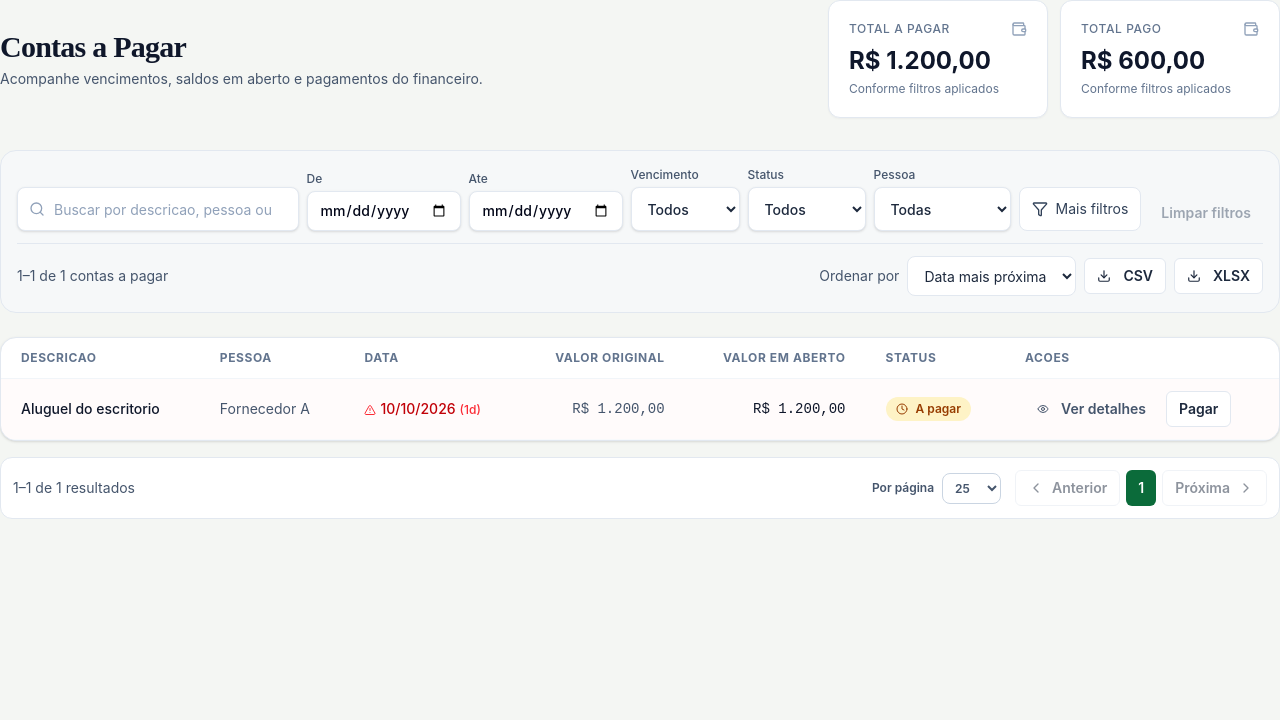
it: PayablesPage › abre e fecha o detalhe pelo identificador da transacao
Click the button "Ver detalhes". click: (1092, 409)
box: x1=1025 y1=391 x2=1158 y2=427
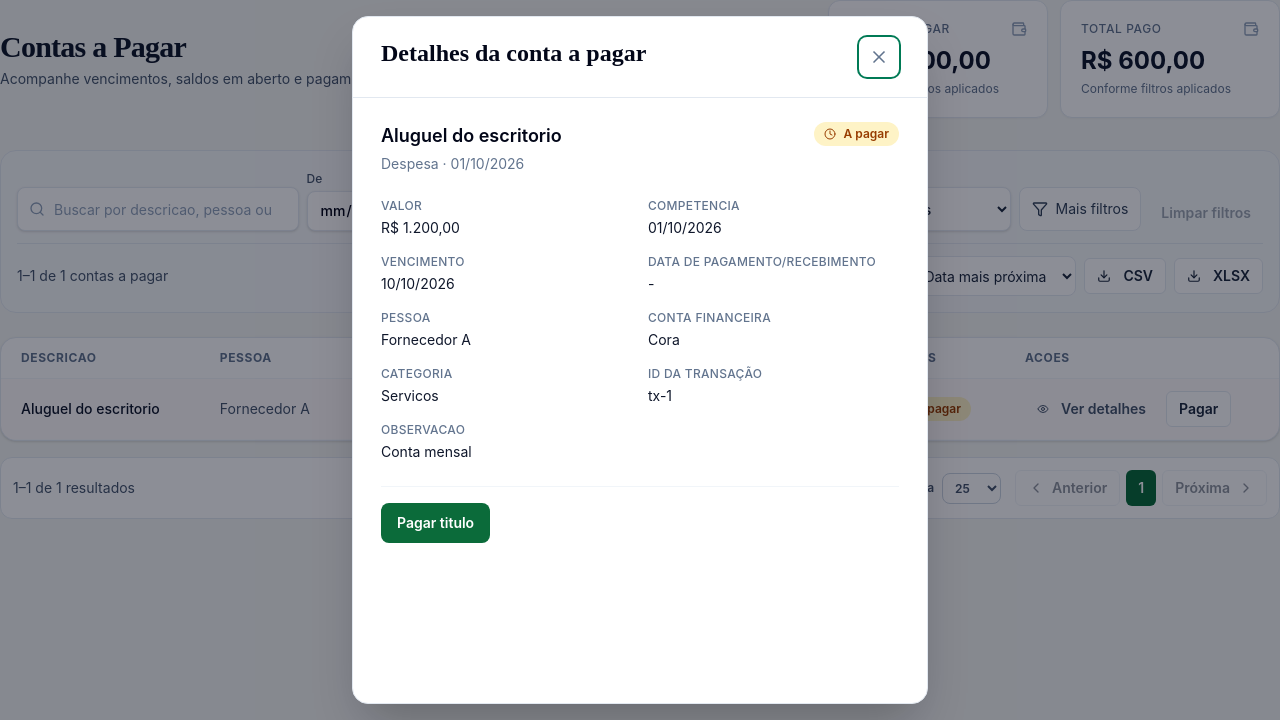
Check: the heading "Detalhes da conta a pagar" is shown, box x1=381 y1=40 x2=646 y2=66
Check: the text "Conta mensal" is shown, box x1=381 y1=443 x2=472 y2=460
Click the button named "Fechar painel". click: (879, 57)
box: x1=859 y1=37 x2=899 y2=77
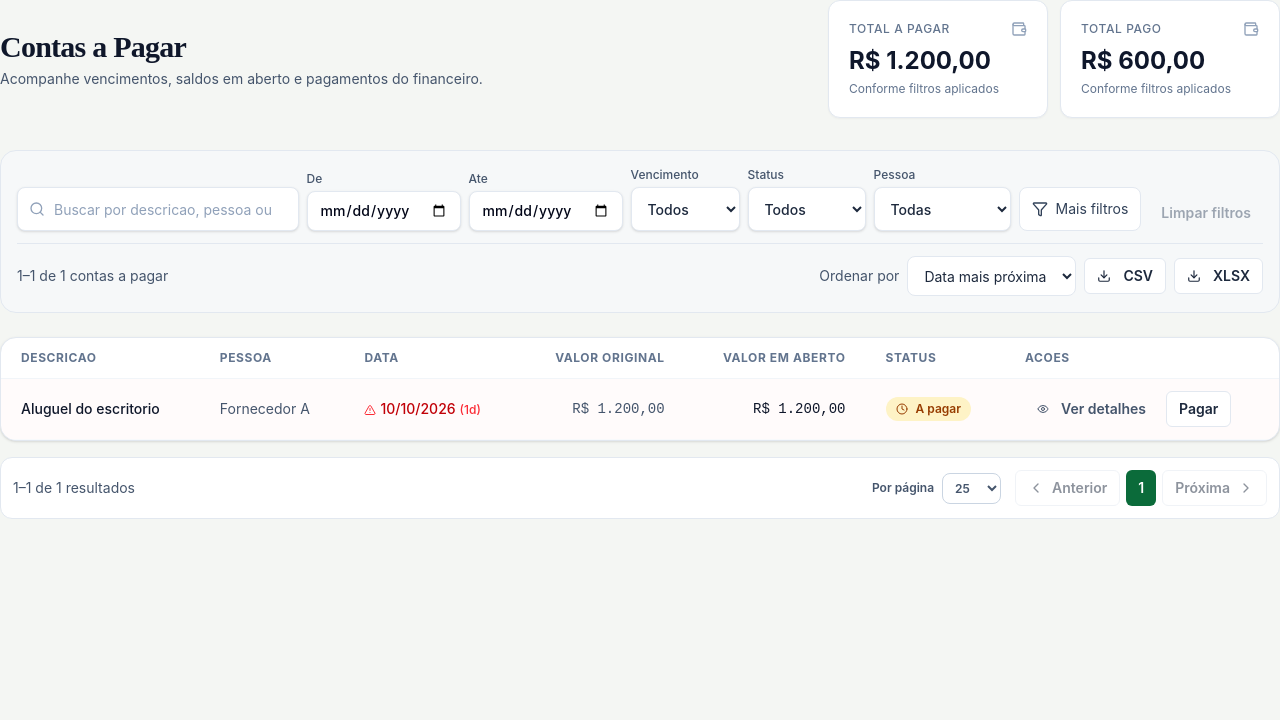
Check: the heading "Detalhes da conta a pagar" is gone
